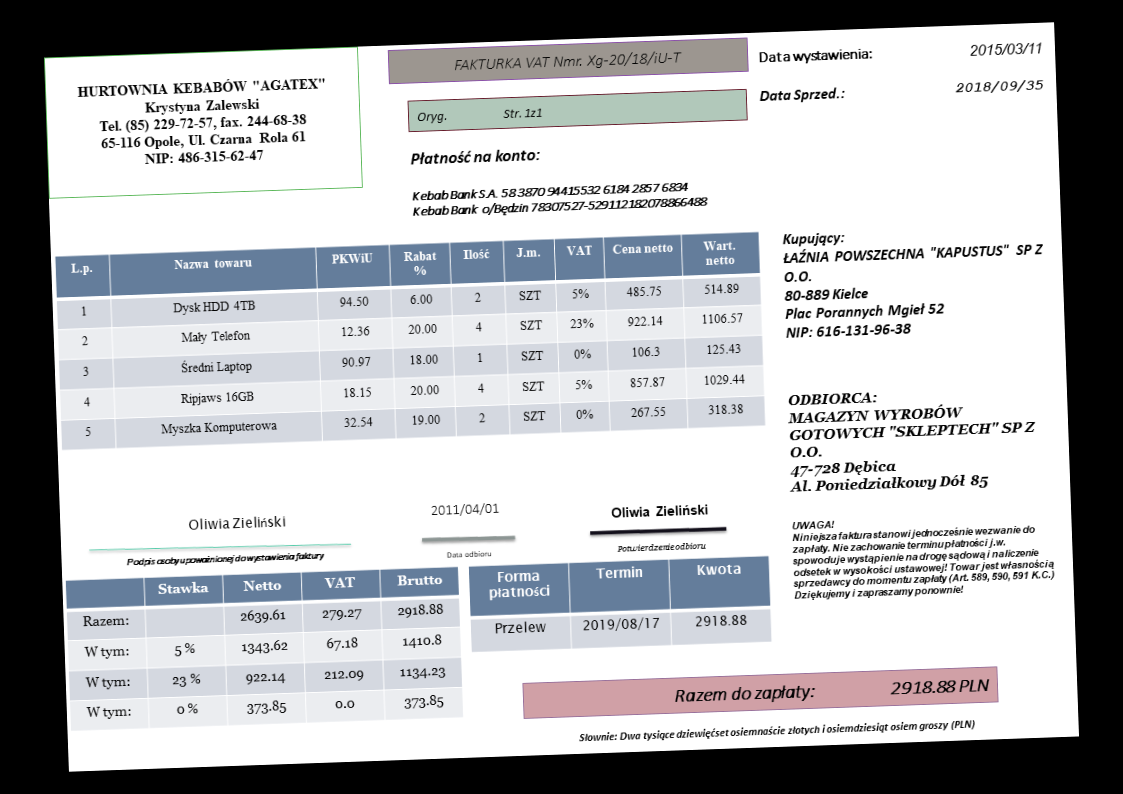Table: (53, 231, 767, 451), (64, 566, 464, 732), (467, 554, 772, 654)
TextBox: (779, 222, 1048, 342), (784, 383, 1040, 498), (73, 69, 331, 174), (789, 508, 1059, 602), (575, 713, 978, 747), (409, 177, 710, 219), (671, 673, 991, 707), (448, 48, 684, 74), (123, 547, 327, 571), (756, 43, 875, 70), (407, 146, 542, 169), (413, 103, 546, 126), (184, 511, 290, 534), (952, 76, 1046, 98), (607, 501, 710, 521), (757, 84, 847, 106), (967, 39, 1044, 59), (614, 539, 709, 555), (429, 500, 500, 520), (443, 548, 493, 560)
